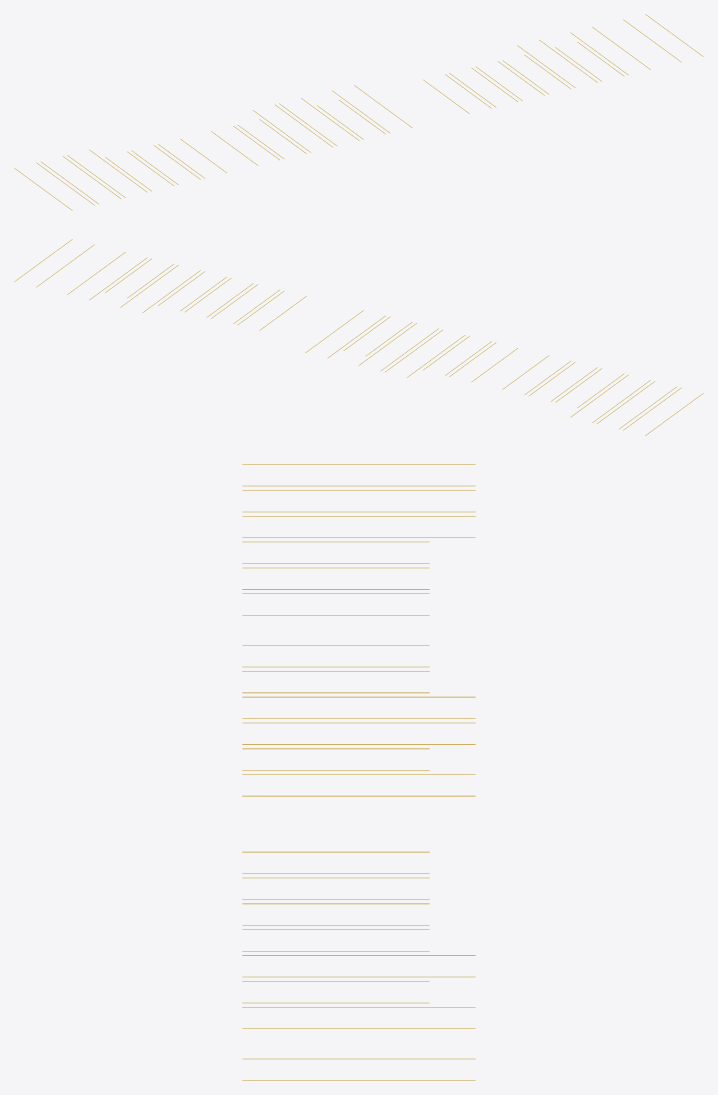
The model's file is SM_MPRR_DockLines_-1_0.fbx.
3 views of the same model, one above another, from view 1: azimuth 30°, elevation 25°; view 2: azimuth 150°, elevation 25°; view 3: azimuth 270°, elevation 25° (orthographic). The views are drawn at different scales.
Parts seen in each view (by area): view 1: SM_MPRR_DockLines_-1_0; view 2: SM_MPRR_DockLines_-1_0; view 3: SM_MPRR_DockLines_-1_0.
Part boxes in pixels (<box>): SM_MPRR_DockLines_-1_0: <box>14,14,703,210</box>; SM_MPRR_DockLines_-1_0: <box>14,239,703,435</box>; SM_MPRR_DockLines_-1_0: <box>242,464,475,1080</box>.
Bounding box in the file's own units: 9455 × 1513 × 0.
